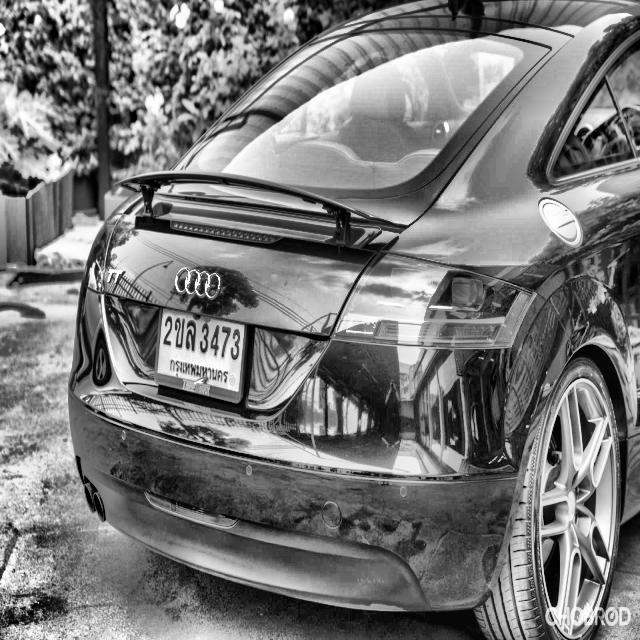license-plate: (153, 300, 245, 407)
